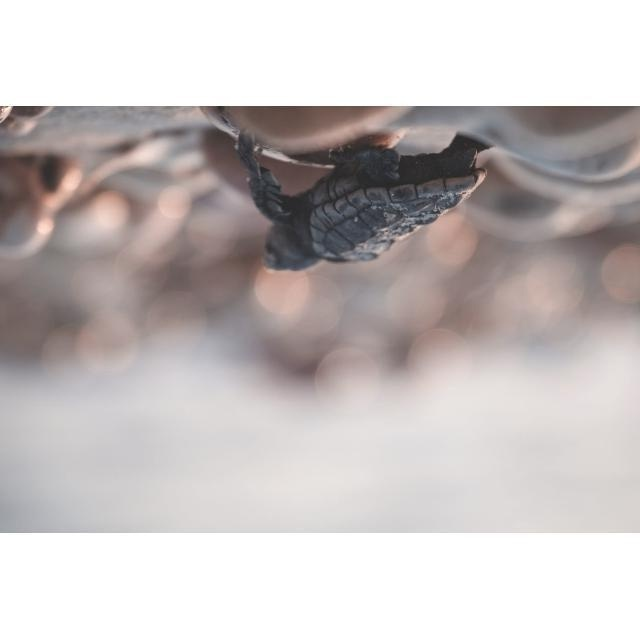turtle: (234, 130, 490, 274)
